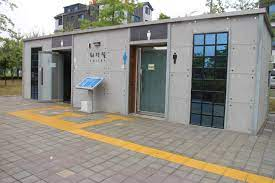guide_blocks: (157, 152, 224, 173), (10, 111, 76, 131), (81, 132, 146, 149), (230, 167, 274, 183), (107, 114, 134, 121)
